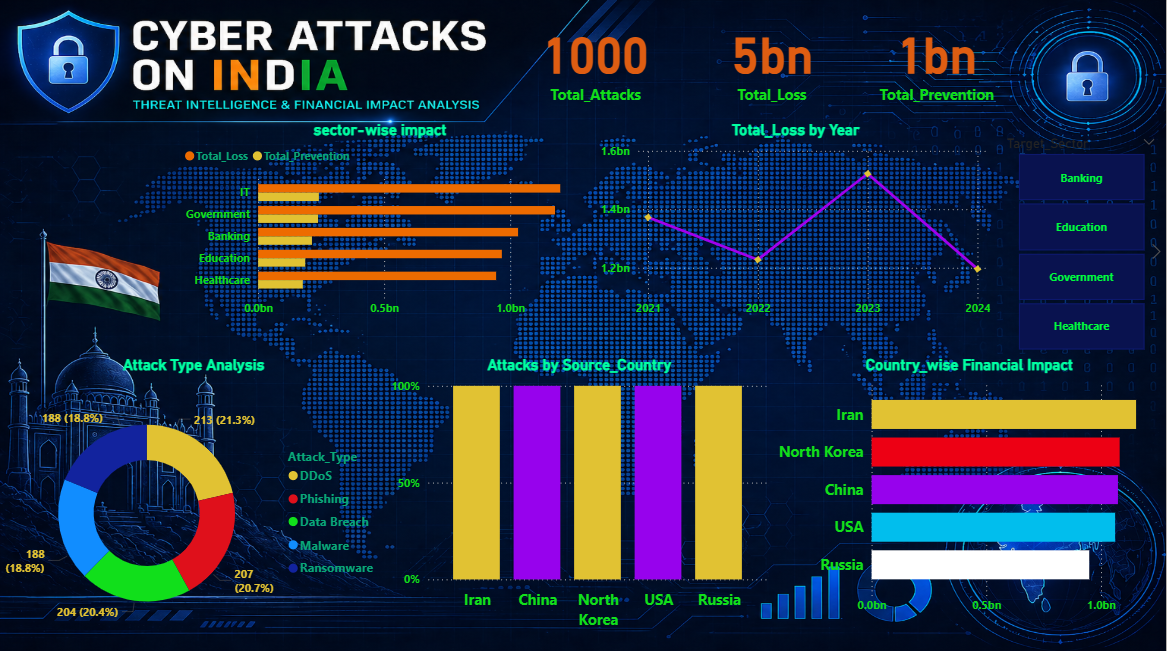

What the dashboard file says about the page in this screenshot:
{"tool":"powerbi","page":{"name":"Page 1","canvas":[1280,720],"ordinal":0},"visuals":[{"type":"card","fields":{"Values":["Cyber_Attacks_India.Total_Attacks"]},"box":[555.7,0,196.2,135.8],"z":0},{"type":"card","fields":{"Values":["Cyber_Attacks_India.Total_Loss"]},"box":[752,0,190.7,135.8],"z":1000},{"type":"card","fields":{"Values":["Cyber_Attacks_India.Total_Prevention"]},"box":[942.7,0,171.5,135.8],"z":2000},{"type":"hundredPercentStackedColumnChart","title":"Attacks by Source_Country","fields":{"Category":["Cyber_Attacks_India.Source_Country"],"Y":["Cyber_Attacks_India.Total_Attacks"]},"box":[424,393.8,424,308.7],"z":3000},{"type":"donutChart","title":"Attack Type Analysis","fields":{"Category":["Cyber_Attacks_India.Attack_Type"],"Y":["CountNonNull(Cyber_Attacks_India.Attack_ID)"]},"box":[1.4,393.8,422.6,326.6],"z":4000},{"type":"barChart","title":"Country_wise Financial Impact","fields":{"Category":["Cyber_Attacks_India.Source_Country"],"Y":["Cyber_Attacks_India.Total_Loss"]},"box":[848,393.8,432.2,292.3],"z":4001},{"type":"clusteredBarChart","title":"sector-wise impact","fields":{"Category":["Cyber_Attacks_India.Target_Sector"],"Y":["Cyber_Attacks_India.Total_Loss","Cyber_Attacks_India.Total_Prevention"]},"box":[197.6,135.8,439.1,223.7],"z":4002},{"type":"lineChart","fields":{"Category":["Cyber_Attacks_India.Date.Variation.Date Hierarchy.Year","Cyber_Attacks_India.Date.Variation.Date Hierarchy.Quarter"],"Y":["Cyber_Attacks_India.Total_Loss"]},"box":[654.5,135.8,437.7,223.7],"z":4003},{"type":"slicer","fields":{"Values":["Cyber_Attacks_India.Target_Sector"]},"box":[1092.3,146.8,188,247],"z":4004}]}

Visuals, with their boxes in screenshot pixels (x1, y1, x2, y2), scaled from the page's 1280x720 canvas onto the 1167x651 screenshot:
card - Cyber_Attacks_India.Total_Attacks: [left=507, top=0, right=686, bottom=123]
card - Cyber_Attacks_India.Total_Loss: [left=686, top=0, right=859, bottom=123]
card - Cyber_Attacks_India.Total_Prevention: [left=859, top=0, right=1016, bottom=123]
"Attacks by Source_Country" hundredPercentStackedColumnChart: [left=387, top=356, right=773, bottom=635]
"Attack Type Analysis" donutChart: [left=1, top=356, right=387, bottom=650]
"Country_wise Financial Impact" barChart: [left=773, top=356, right=1166, bottom=620]
"sector-wise impact" clusteredBarChart: [left=180, top=123, right=580, bottom=325]
lineChart - Cyber_Attacks_India.Date.Variation.Date Hierarchy.Year x Cyber_Attacks_India.Date.Variation.Date Hierarchy.Quarter: [left=597, top=123, right=996, bottom=325]
slicer - Cyber_Attacks_India.Target_Sector: [left=996, top=133, right=1166, bottom=356]
